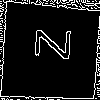Z: (25, 26, 71, 61)
